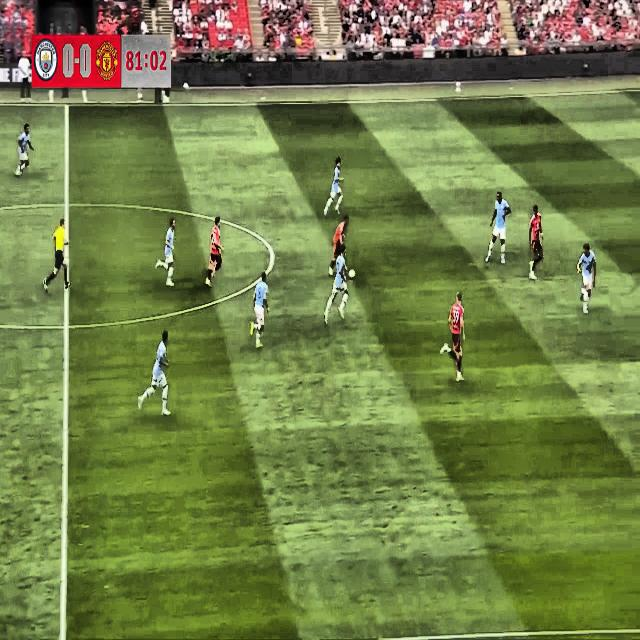ball: (346, 263, 360, 282)
players: (136, 326, 176, 418), (437, 288, 472, 385), (318, 242, 353, 323), (482, 187, 514, 268), (242, 267, 272, 352), (518, 201, 551, 278), (327, 207, 358, 288), (153, 206, 179, 298), (320, 151, 352, 222), (199, 210, 226, 293), (576, 240, 598, 312), (12, 118, 34, 186)
refree: (42, 213, 75, 302)
